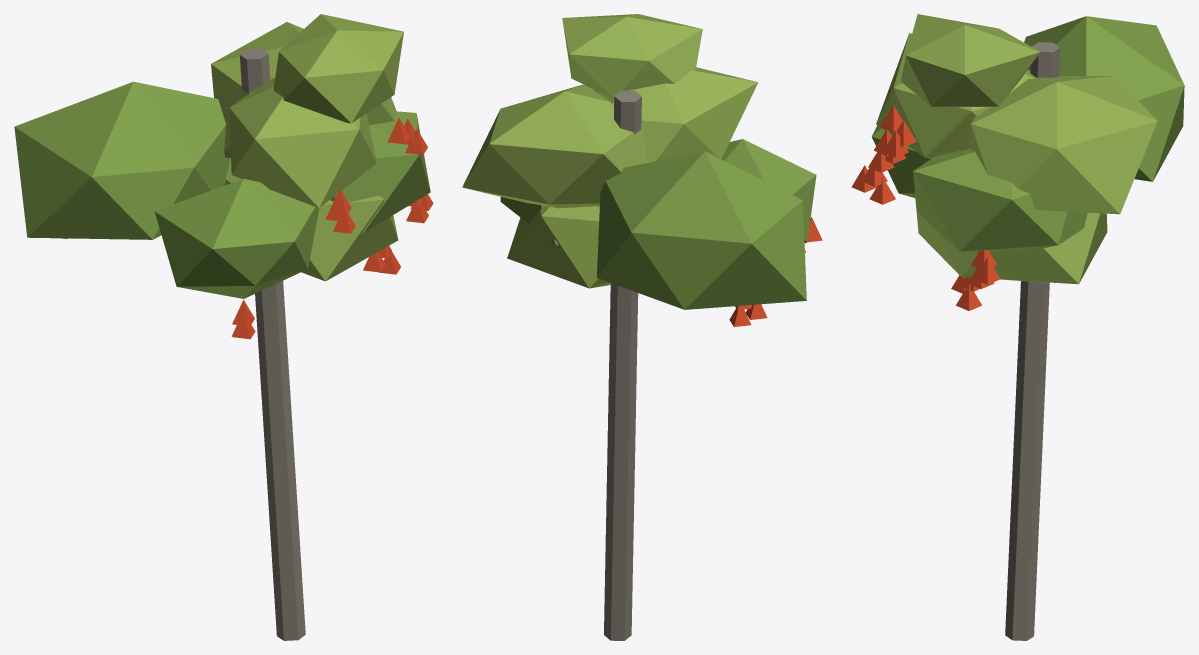
The model's file is ronn_1.glb.
3 views of the same model, side by side, from view 1: azimuth 30°, elevation 25°; view 2: azimuth 150°, elevation 25°; view 3: azimuth 270°, elevation 25° (orthographic). The views are drawn at different scales.
Visible parts, largest first — view 1: ronn_1; view 2: ronn_1; view 3: ronn_1.
Part boxes in pixels (x1,y1,x2,y2): ronn_1: [14, 14, 433, 640]; ronn_1: [462, 14, 822, 640]; ronn_1: [851, 14, 1184, 640].
Size of the model in its own units: 3.7 by 6.16 by 3.
